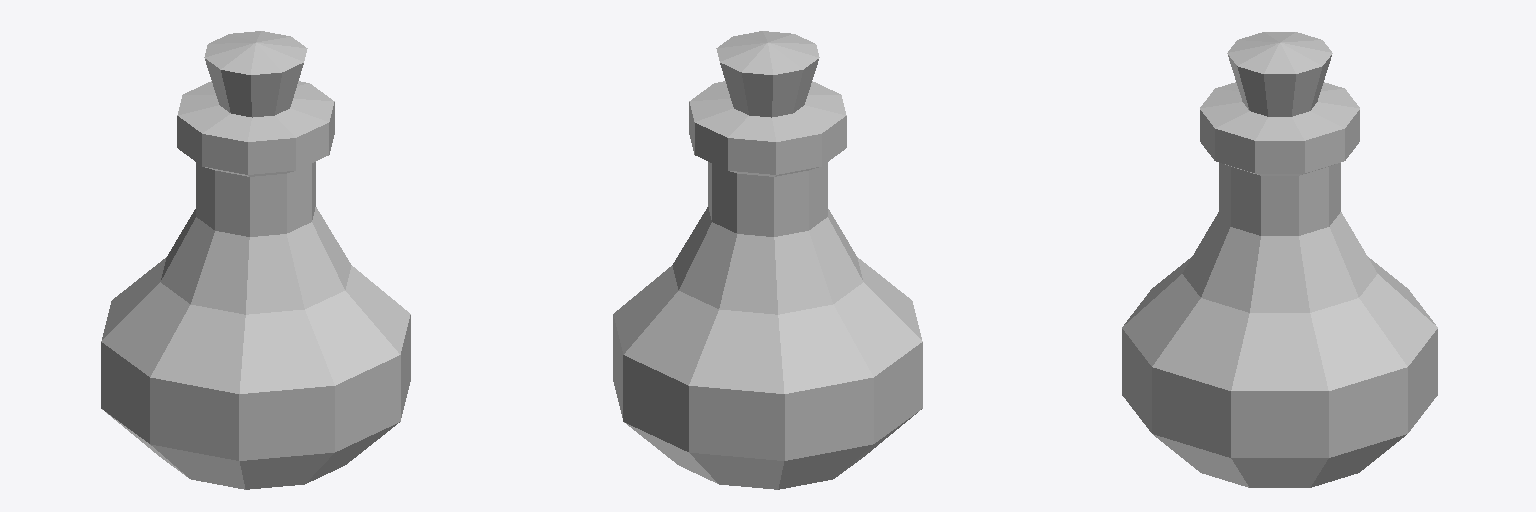
Rendered from potion_large_green.obj.
3 renders of one model, left to right at view 1: azimuth 30°, elevation 25°; view 2: azimuth 150°, elevation 25°; view 3: azimuth 270°, elevation 25°, orthographic.
Visible parts, largest first — view 1: potion_large_green; view 2: potion_large_green; view 3: potion_large_green.
Boxes of the visible parts, x1,y1,x2,y2 form: potion_large_green: [101, 31, 410, 489]; potion_large_green: [613, 31, 922, 489]; potion_large_green: [1122, 32, 1437, 487].
Bounding box in the file's own units: 0.3521 × 0.5512 × 0.3702.